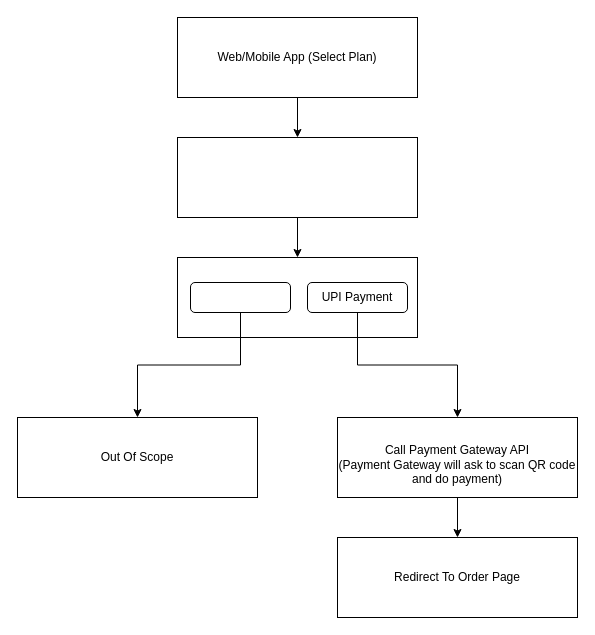
Image size: 595x635. Some labels were removed from this diagram. Each missing label, with the box of its shape:
Online Payment: (190, 282, 290, 312)
Order Check-Out: (176, 136, 418, 218)
